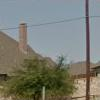Chimney: (13, 18, 34, 66)
